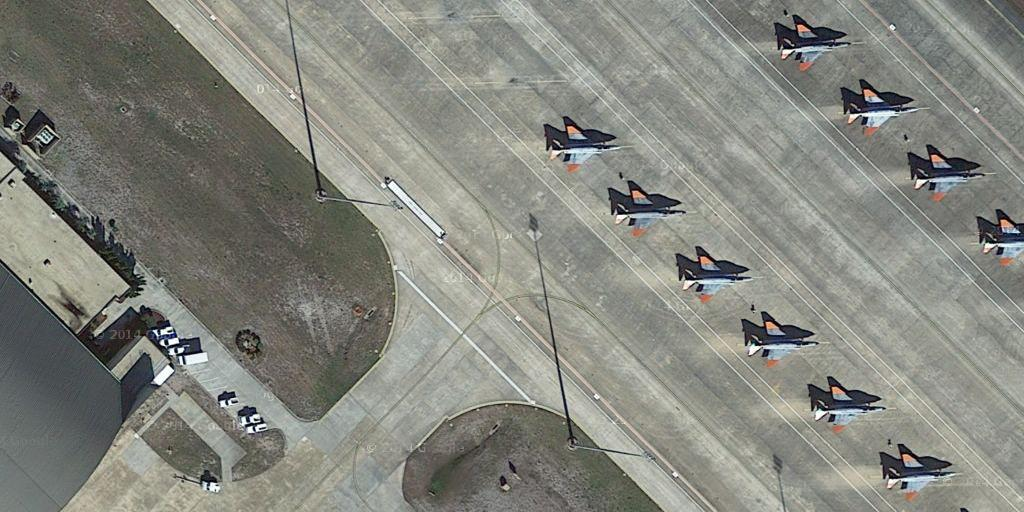plane: (536, 112, 634, 177), (902, 146, 995, 207), (871, 442, 966, 500), (673, 245, 760, 306), (836, 81, 927, 138), (803, 379, 895, 435), (605, 182, 694, 238), (736, 316, 826, 370), (772, 20, 857, 74), (970, 207, 1020, 270)
